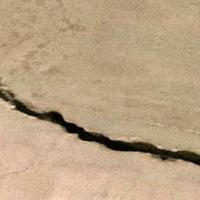crack: (0, 79, 199, 190)
